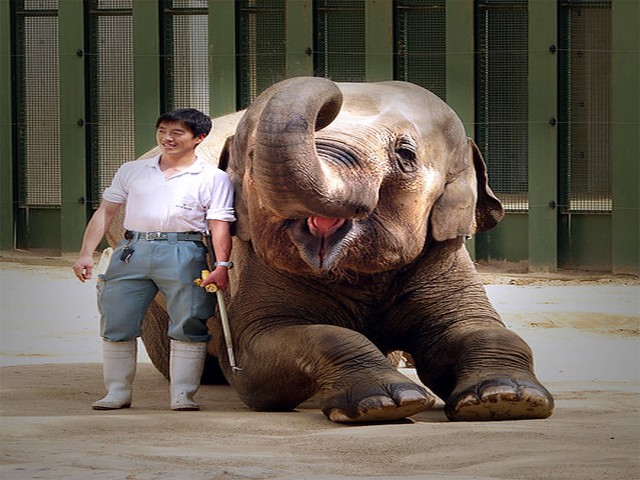Elephant: (214, 53, 574, 429)
Person: (77, 105, 234, 412)
